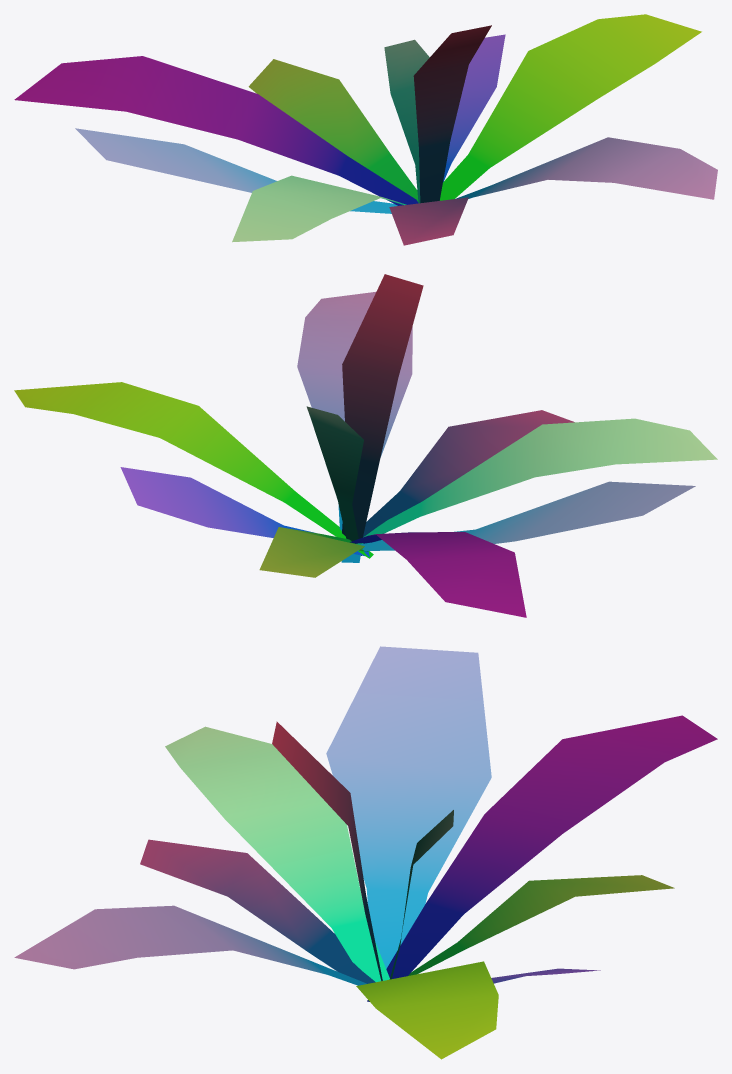
The model's file is Curbside_Weeds_ujzjfexja_Mid_ujzjfexja_VarK_LOD1.fbx.
3 views of the same model, one above another, from view 1: azimuth 30°, elevation 25°; view 2: azimuth 150°, elevation 25°; view 3: azimuth 270°, elevation 25° (orthographic). The views are drawn at different scales.
Visible parts, largest first — view 1: _0zea_VarK_LOD2; view 2: _0zea_VarK_LOD2; view 3: _0zea_VarK_LOD2.
Boxes of the visible parts, left/top/right/bottom form: _0zea_VarK_LOD2: left=14, top=14, right=717, bottom=245; _0zea_VarK_LOD2: left=14, top=274, right=717, bottom=617; _0zea_VarK_LOD2: left=14, top=646, right=717, bottom=1059.
Size of the model in its own units: 20.88 by 7.31 by 17.13.
